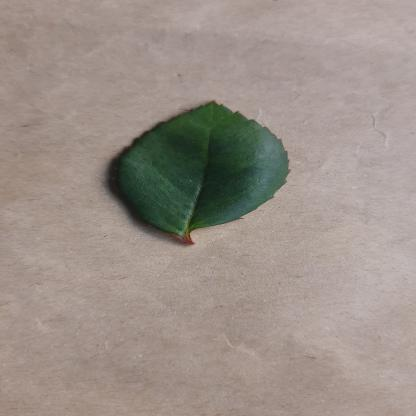normal: (108, 100, 294, 235)
